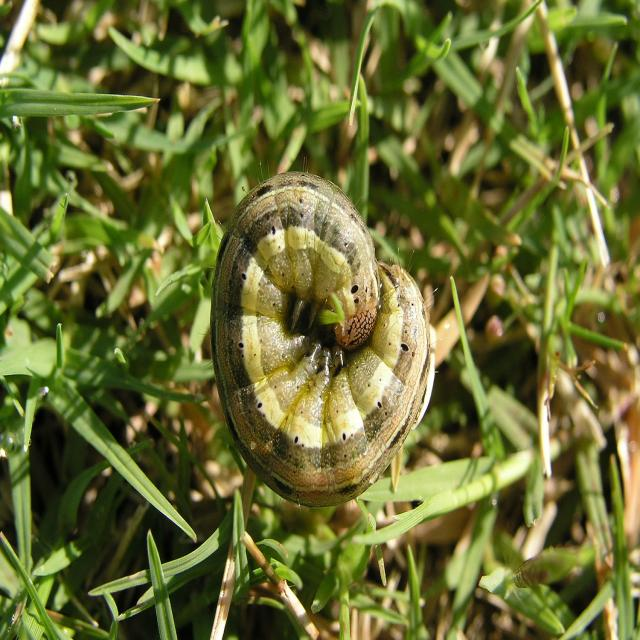pest-armyworm: (208, 160, 438, 518)
